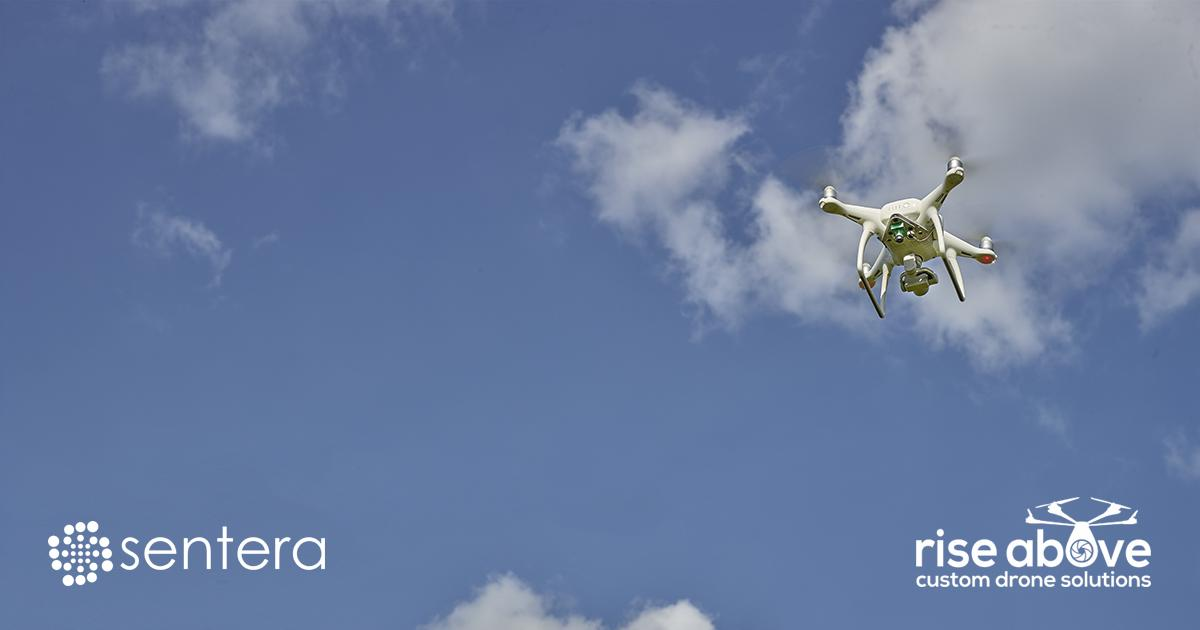drone: (810, 155, 1014, 303)
